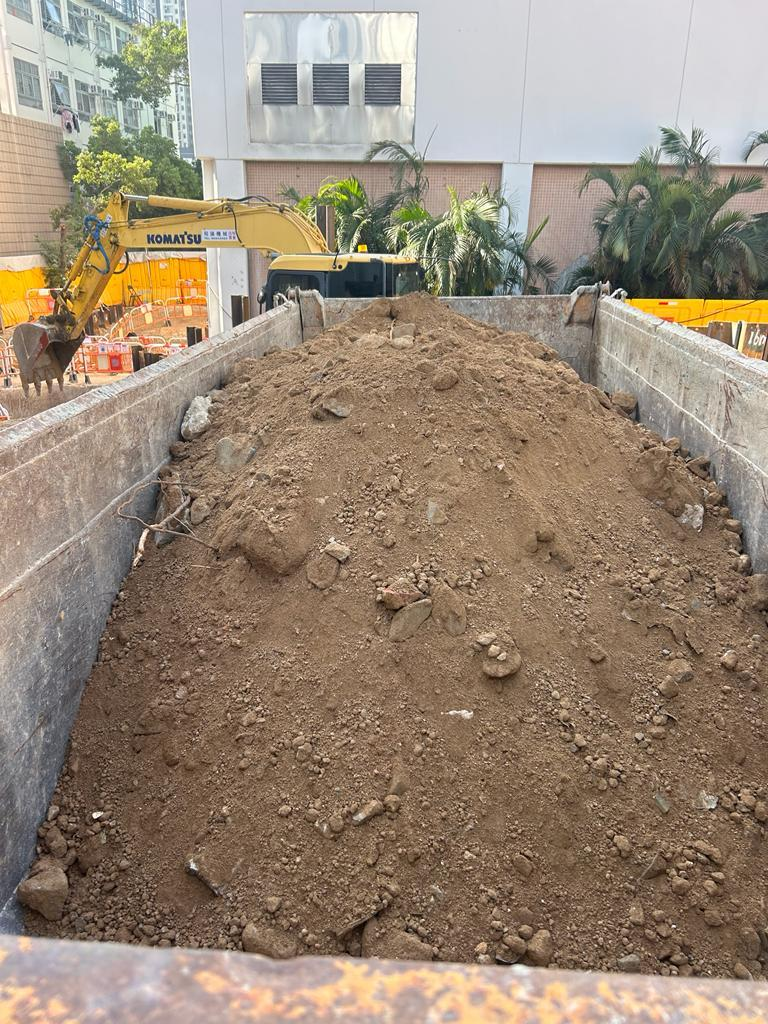dry: (33, 297, 768, 967)
